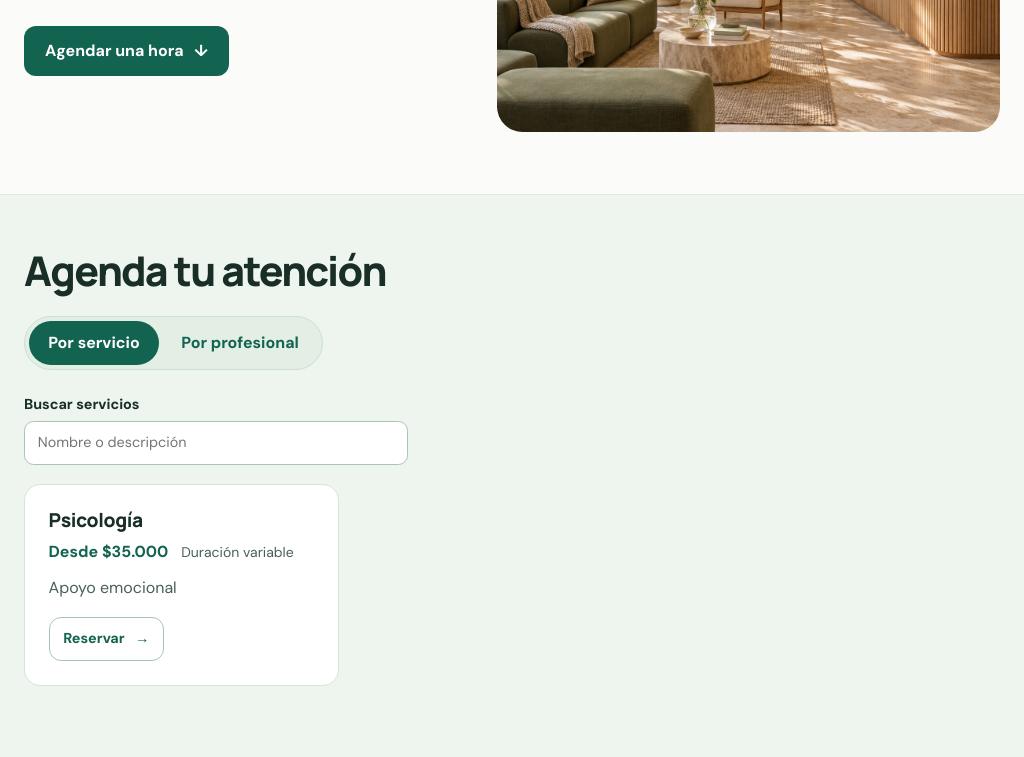
Test: groups offerings by center service and books the selected professional’s price
(page scrolled)
Expected: the number of headings "Psicología" is 1, [48,509,143,532]
Click the button with aria-label "Reservar Psicología" at (106, 639), box [48,617,164,661]
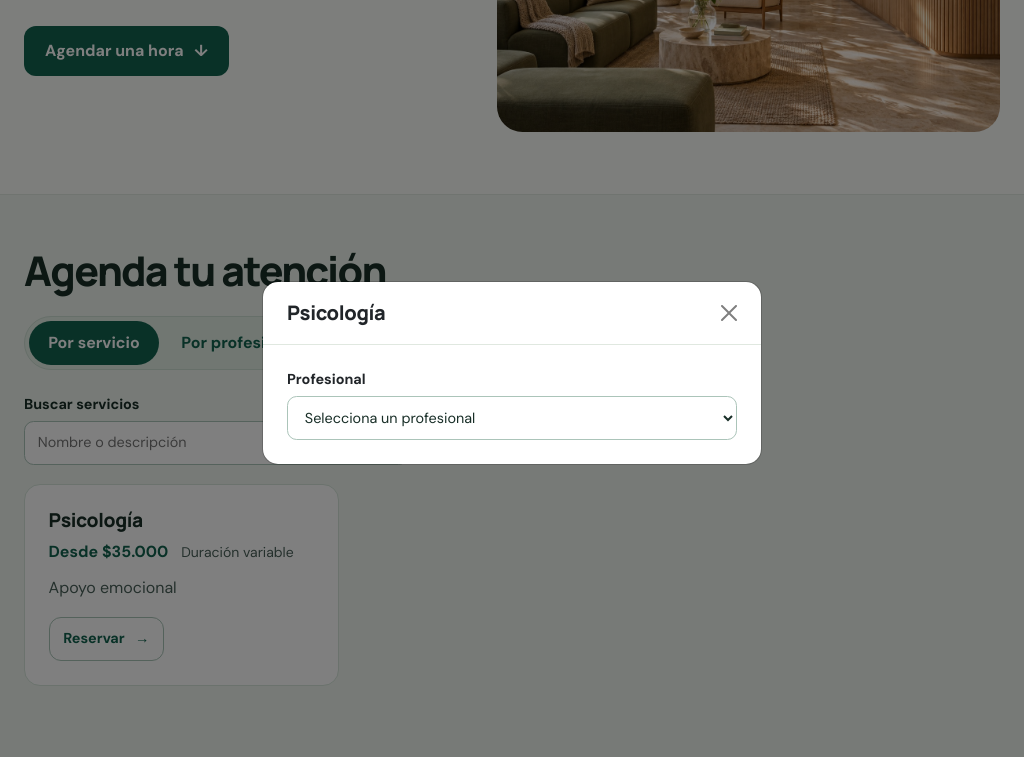
Select "Matías Soto" in the dropdown labelled "Profesional" at (512, 418), box [287,396,737,440]
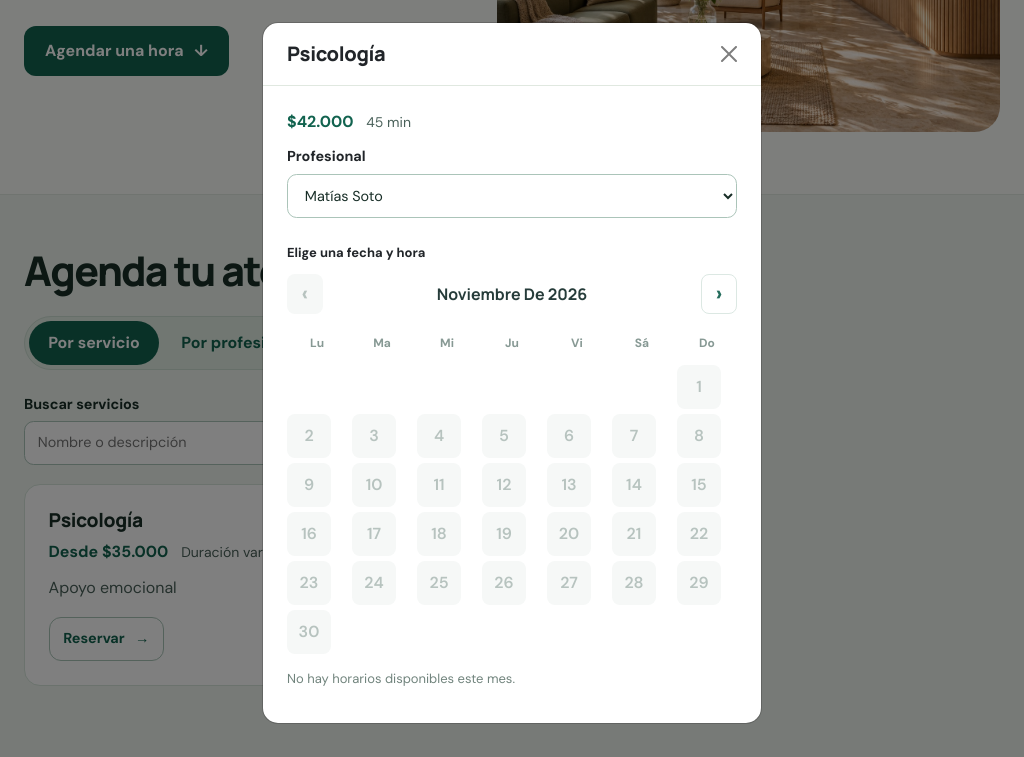
Expected: the text "$42.000" is shown, [287,110,354,134]
Expected: the element "Elige una fecha y hora" is shown, [287,243,737,699]
